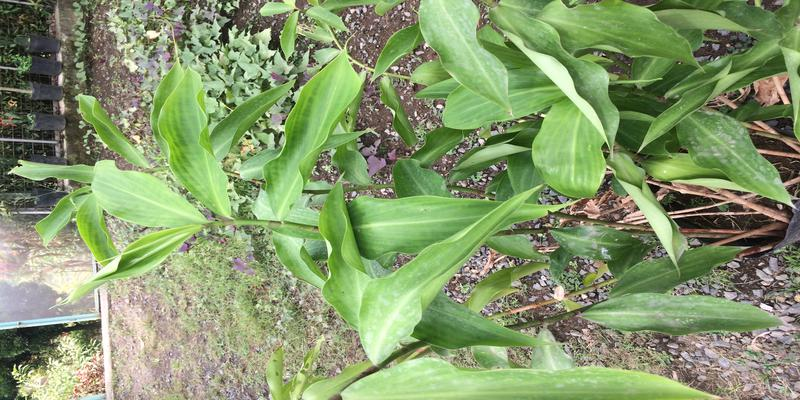Insulin: (109, 78, 663, 329)
